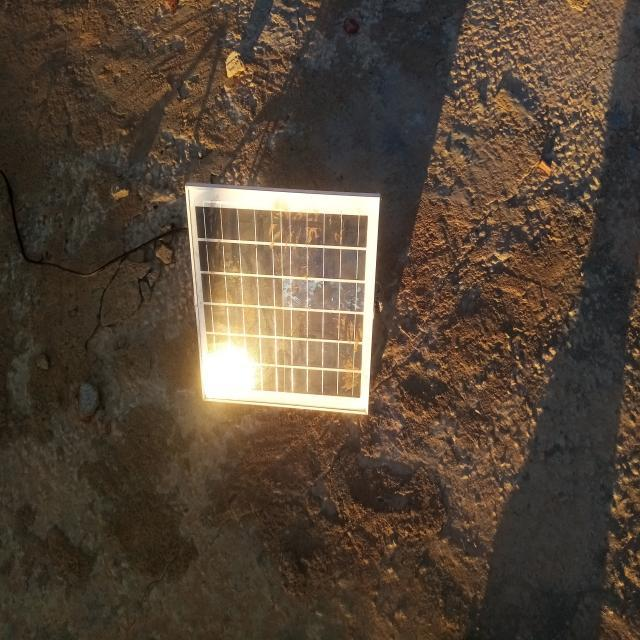faulty: (188, 185, 382, 414)
